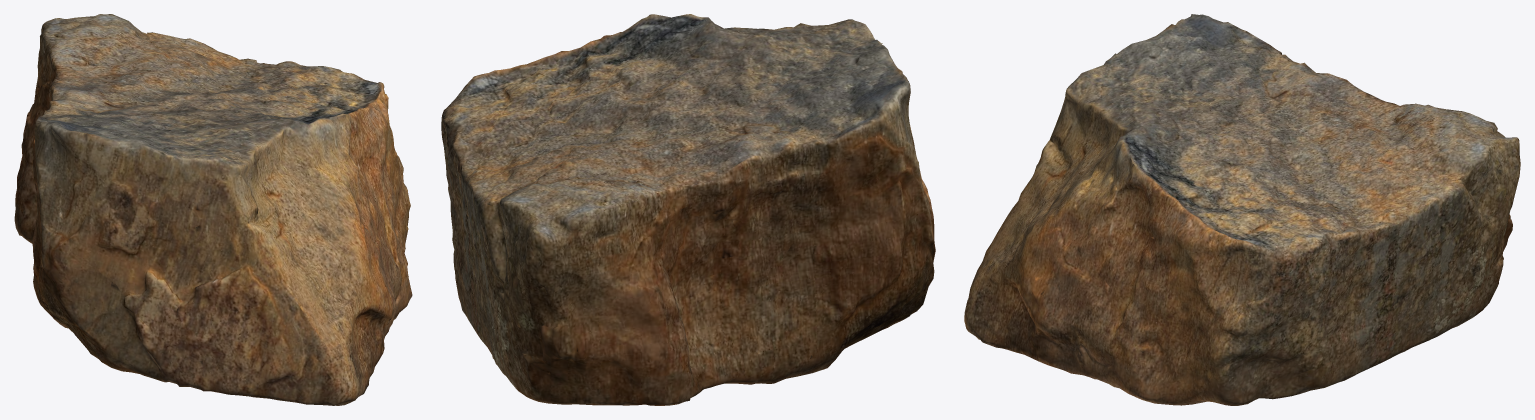
The picture shows the model from 3 angles, left to right: view 1: azimuth 30°, elevation 25°; view 2: azimuth 150°, elevation 25°; view 3: azimuth 270°, elevation 25°; orthographic projection. The views are drawn at different scales.
Parts seen in each view (by area): view 1: namaqualand_boulder_03_lod0; view 2: namaqualand_boulder_03_lod0; view 3: namaqualand_boulder_03_lod0.
Boxes of the visible parts, x1,y1,x2,y2 form: namaqualand_boulder_03_lod0: (14, 14, 412, 405); namaqualand_boulder_03_lod0: (441, 14, 935, 405); namaqualand_boulder_03_lod0: (964, 14, 1520, 405).
Bounding box in the file's own units: 2.4 × 1.47 × 3.07.
Materials: 1 (1 with a texture image).
